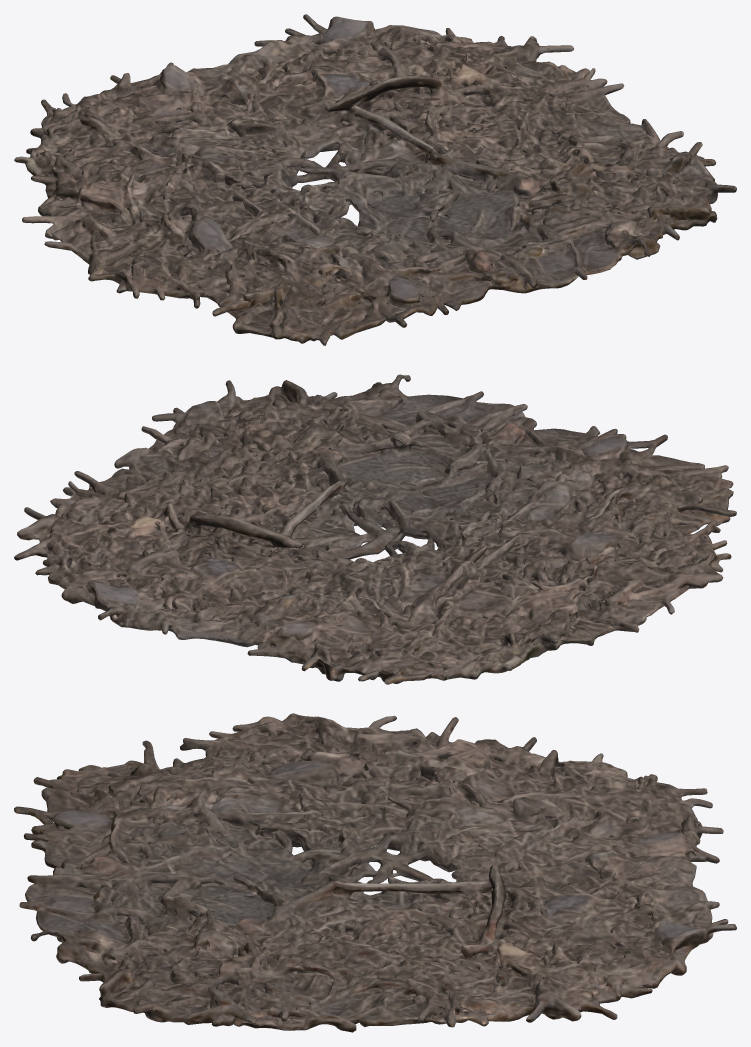
File: needle-litter-v12.glb
3 views of the same model, one above another, from view 1: azimuth 30°, elevation 25°; view 2: azimuth 150°, elevation 25°; view 3: azimuth 270°, elevation 25° (orthographic). The views are drawn at different scales.
Parts seen in each view (by area): view 1: geometry_0; view 2: geometry_0; view 3: geometry_0.
Part boxes in pixels (<box>): geometry_0: <box>14,14,736,345</box>; geometry_0: <box>14,374,736,684</box>; geometry_0: <box>14,713,736,1032</box>.
Size of the model in its own units: 0.12 by 0.00958 by 0.1178.
1 material, 1 textured.
